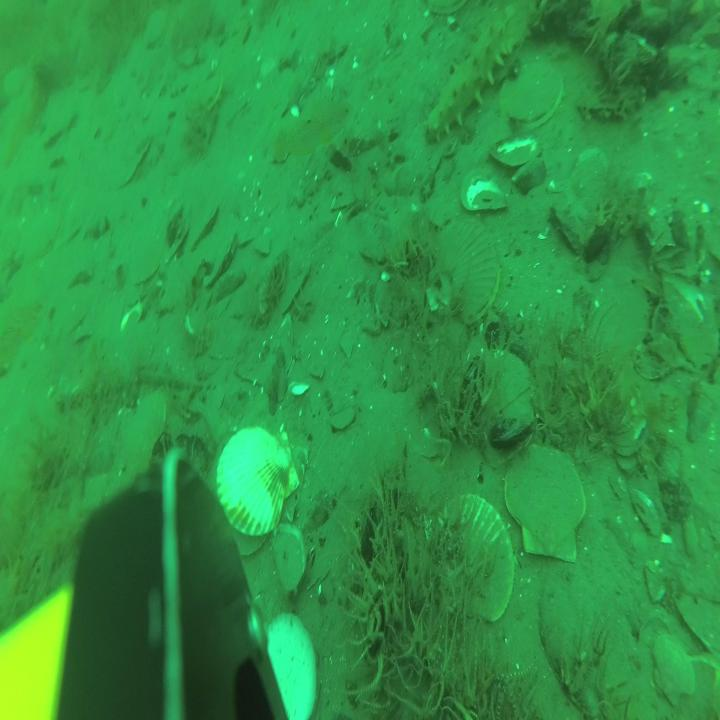holothurian: (425, 14, 522, 144)
scallop: (216, 422, 300, 552), (434, 493, 514, 625), (504, 445, 588, 564), (427, 219, 504, 322), (462, 352, 538, 448), (586, 269, 646, 372), (264, 613, 318, 720), (499, 57, 566, 128), (652, 627, 698, 705), (20, 201, 61, 261)
